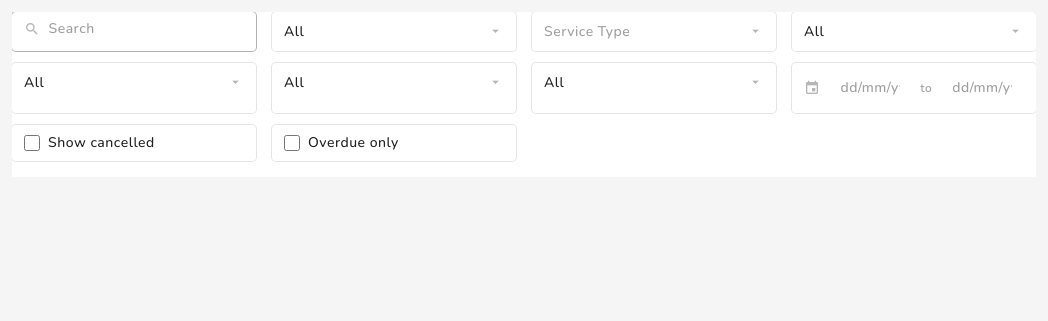
it: AppointmentFilters › renders status select with all 6 status labels plus "All"
The width and height of the screenshot is (1048, 321).
Click the button with aria-label "Status" at [394, 32], box [272, 12, 516, 51]
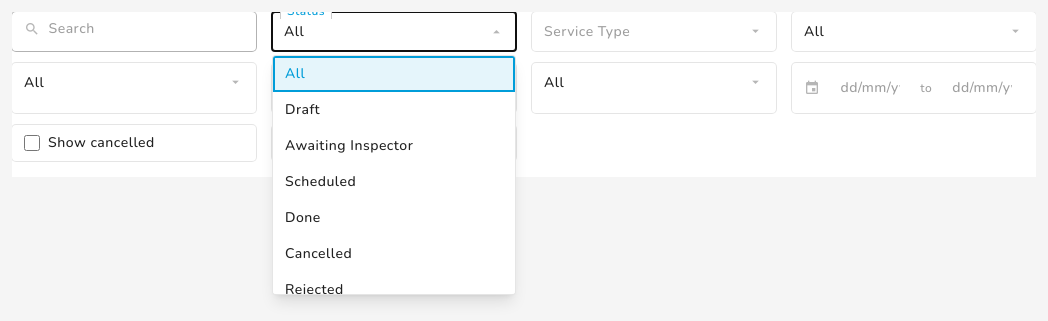
Result: the list named "Status" shows "All" at [285, 64, 305, 83]
Result: the option "Draft" is shown at [285, 100, 320, 119]
Result: the option "Awaiting Inspector" is shown at [285, 136, 413, 155]
